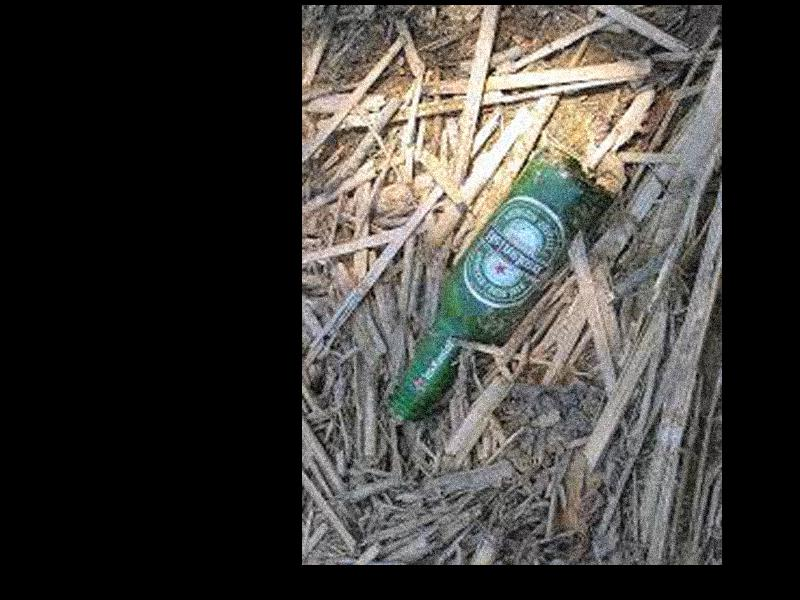Beer: (391, 147, 609, 424)
